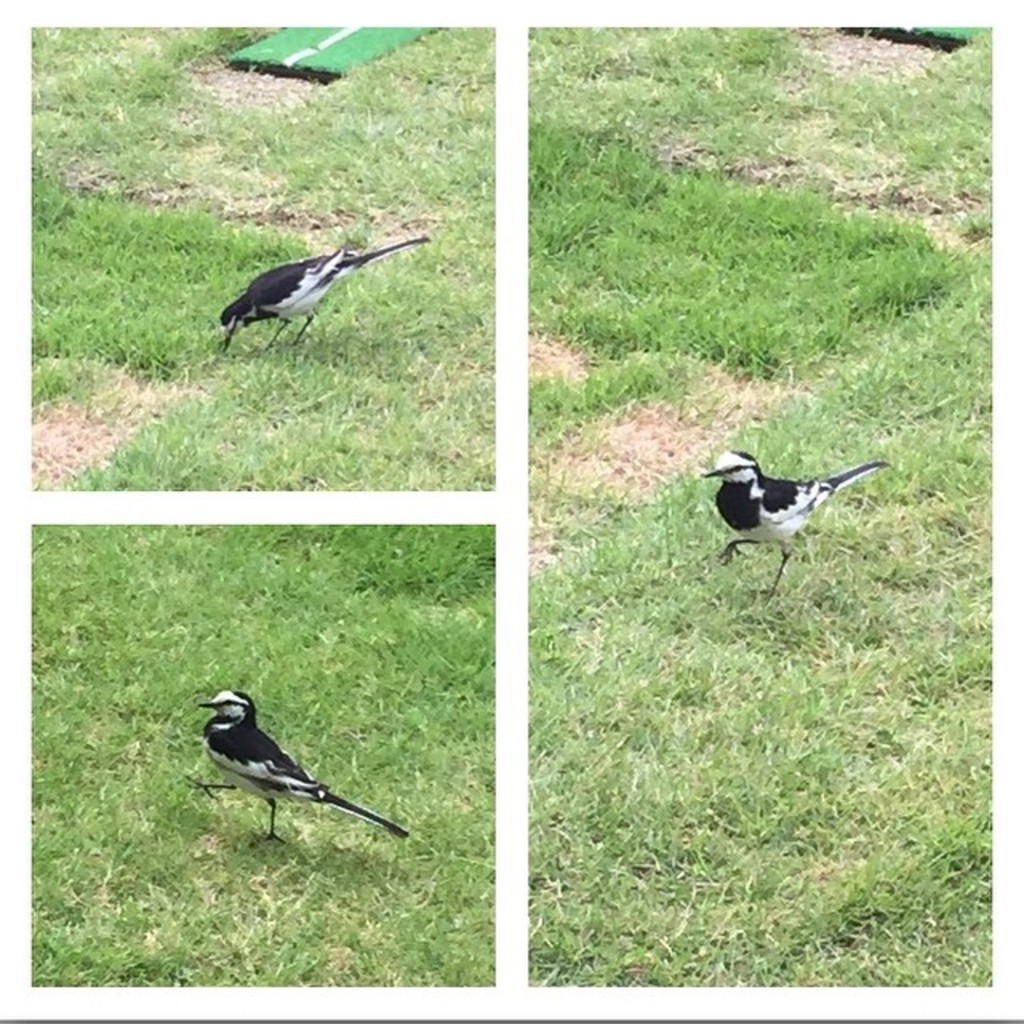person: (192, 686, 330, 804)
